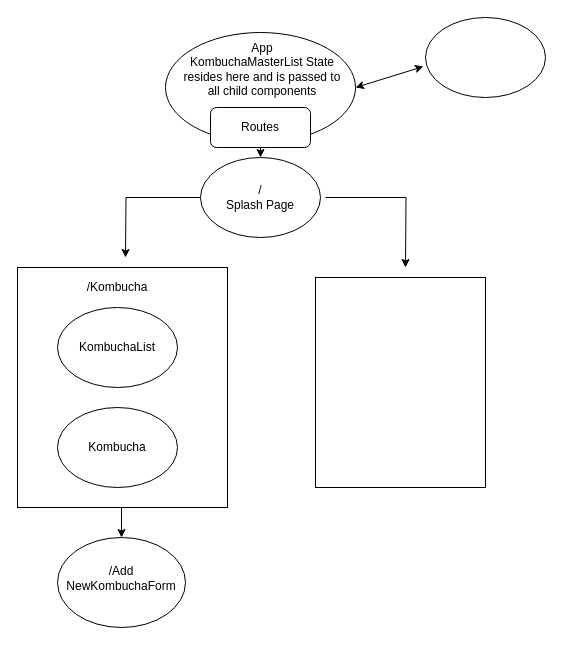
The diagram is 563 pixels wide and 645 high, and some of its shapes have lost their labels. The centre of each missing label's shape, as x and y in pixels:
Any non-existent path Error 404: the point at 400,382
Navbar: the point at 485,57
